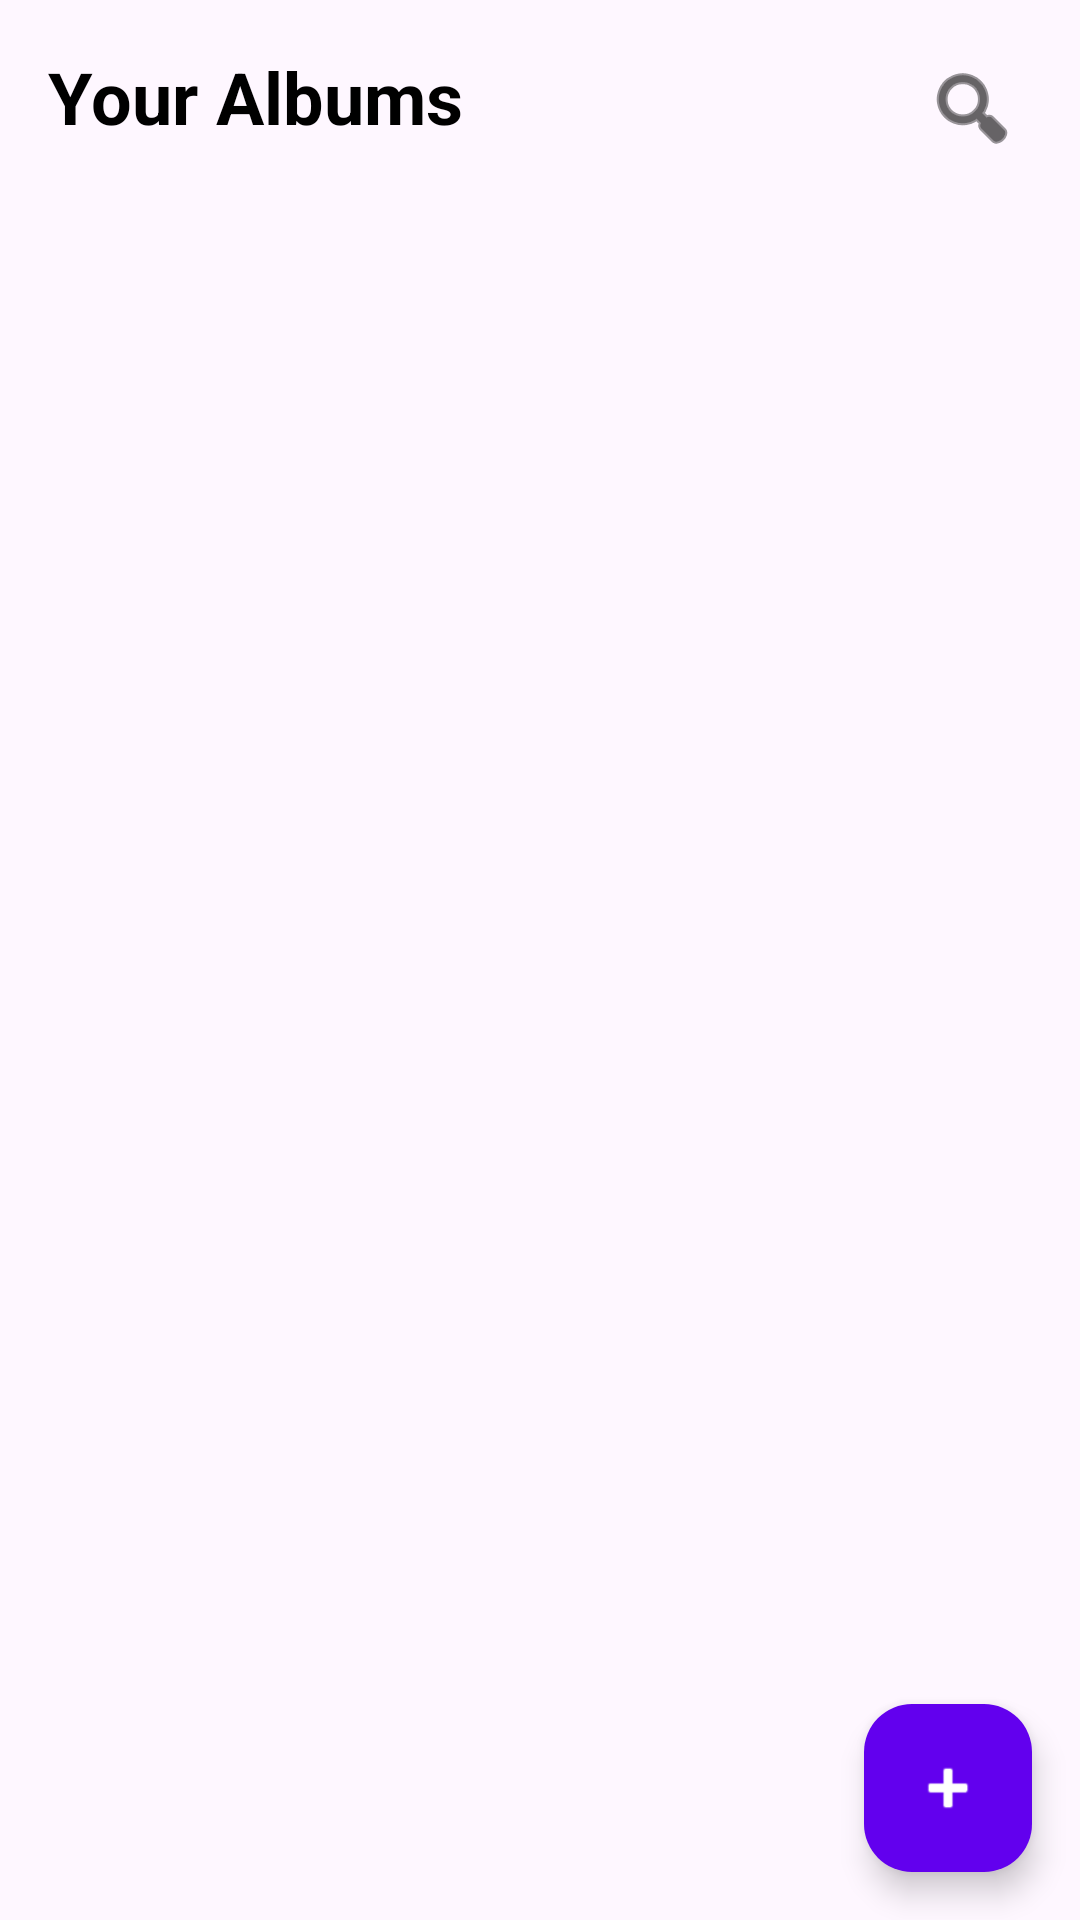

Screen size 1080 × 1920. Icon name, then its center in pixels as point (x, y):
Add Album: point (948, 1788)
Search photos: point (972, 108)
